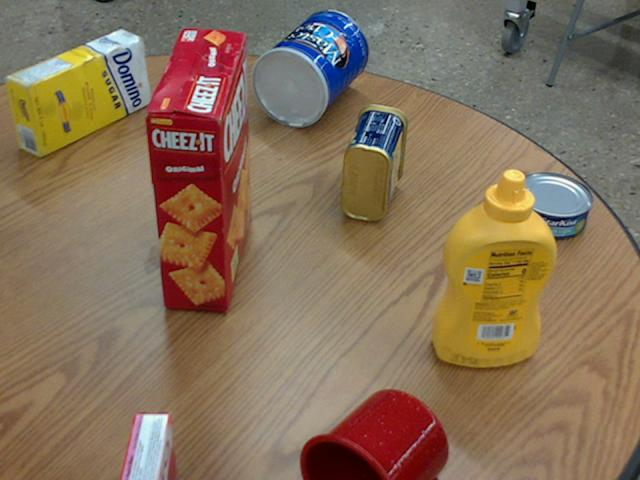cracker_box: (146, 28, 249, 311)
gelatin_box: (114, 413, 173, 479)
master_chef_can: (250, 10, 366, 126)
mug: (297, 390, 447, 479)
mustard_bottle: (430, 169, 555, 366)
potted_meat_can: (341, 104, 406, 220)
sugar_box: (5, 28, 148, 155)
tuna_fish_can: (509, 171, 590, 239)
